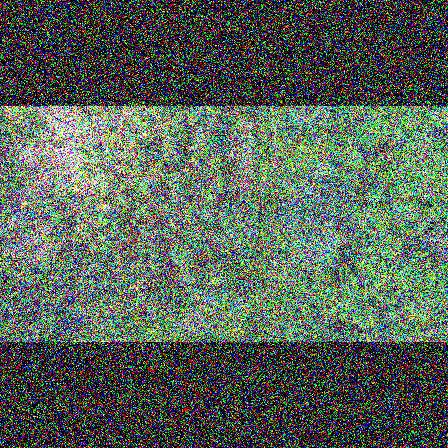Dead: (173, 303, 210, 333), (404, 226, 448, 249)
Sick: (189, 173, 212, 194)
